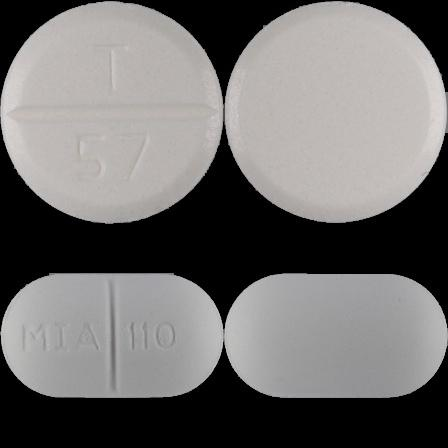68788-9708: (0, 0, 224, 224)
